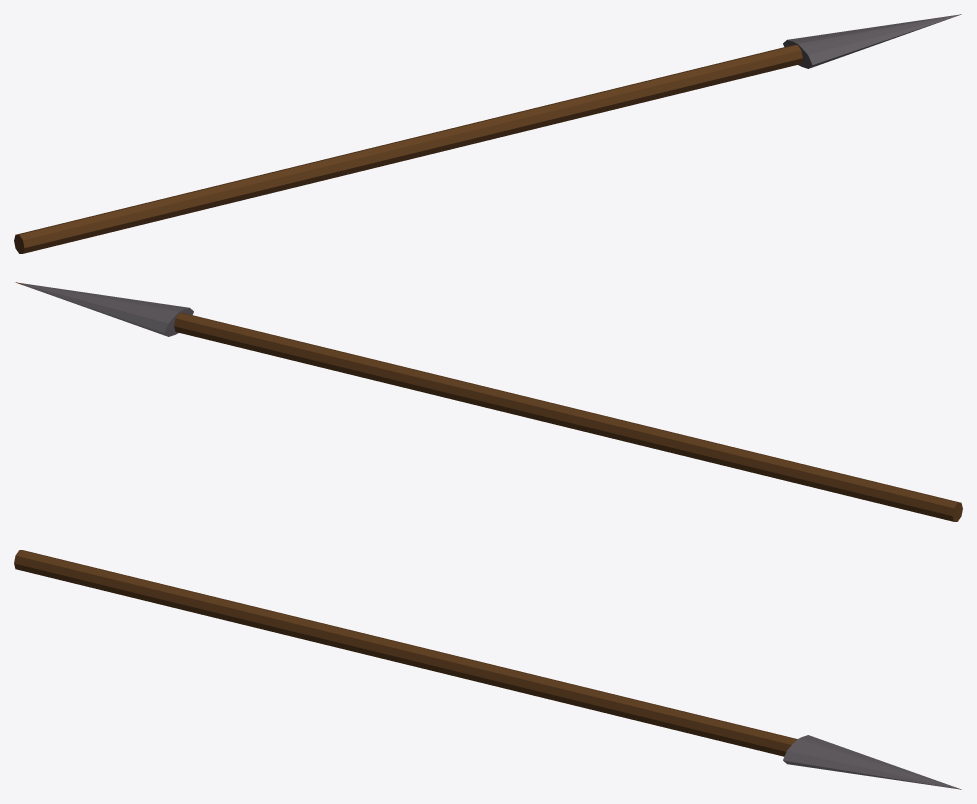
Rendered from Spear.fbx.
3 renders of one model, top to bottom at view 1: azimuth 30°, elevation 25°; view 2: azimuth 150°, elevation 25°; view 3: azimuth 330°, elevation 25°, orthographic.
Parts seen in each view (by area): view 1: Spear; view 2: Spear; view 3: Spear.
Part boxes in pixels (<box>): Spear: <box>14,14,961,253</box>; Spear: <box>15,282,962,521</box>; Spear: <box>14,550,961,789</box>.
Bounding box in the file's own units: 219 × 4.65 × 11.92.
Materials: 1 (1 with a texture image).
